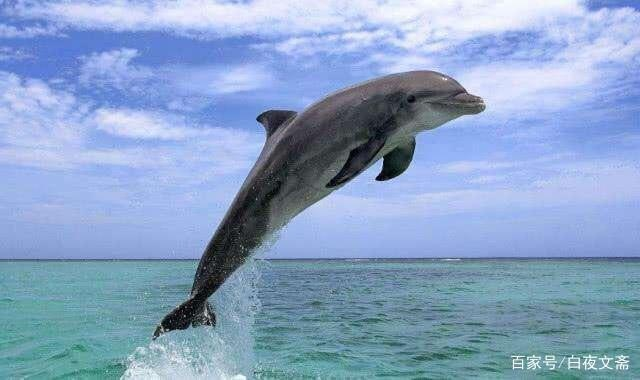fish: (152, 69, 487, 340)
